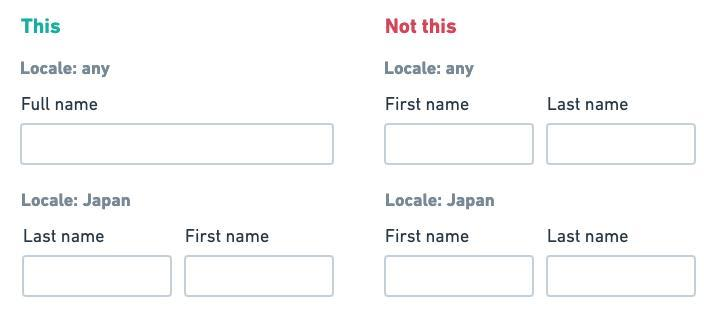input: (20, 123, 335, 165), (184, 254, 336, 300), (544, 254, 699, 299), (22, 254, 174, 299), (383, 254, 537, 298), (384, 123, 536, 166), (547, 125, 697, 166)
label: (386, 227, 471, 246), (186, 228, 270, 247), (24, 226, 106, 245), (546, 227, 628, 245), (382, 96, 471, 112), (22, 95, 99, 113), (547, 97, 630, 113)
